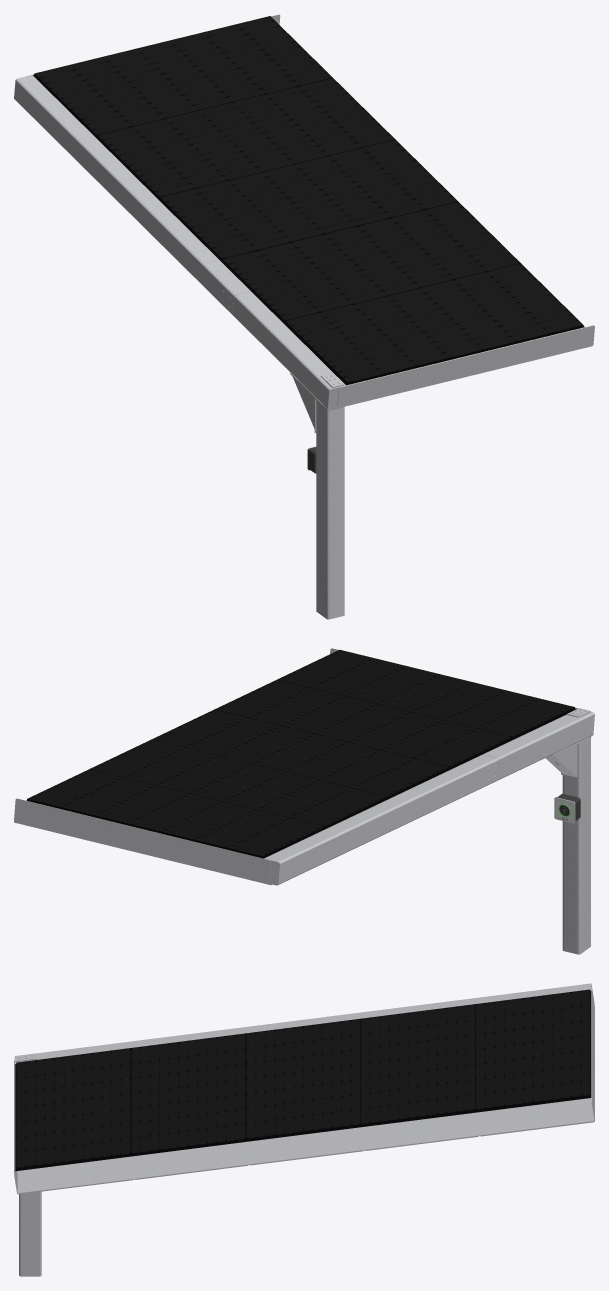
3 renders of one model, top to bottom at view 1: azimuth 30°, elevation 25°; view 2: azimuth 150°, elevation 25°; view 3: azimuth 270°, elevation 25°, orthographic. The views are drawn at different scales.
Visible parts, largest first — view 1: Middle.003; view 2: Middle.003; view 3: Middle.003.
Boxes of the visible parts, <box> form: Middle.003: <box>14,14,594,619</box>; Middle.003: <box>14,648,594,954</box>; Middle.003: <box>14,983,594,1276</box>.
Size of the model in its own units: 2.77 by 3.11 by 5.7.
Materials: 5 (5 with a texture image).
